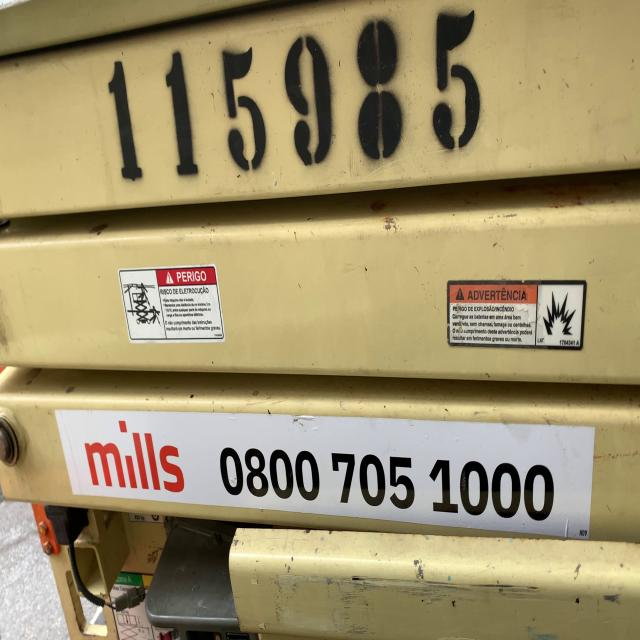Adesivo Longo: (53, 404, 597, 544)
